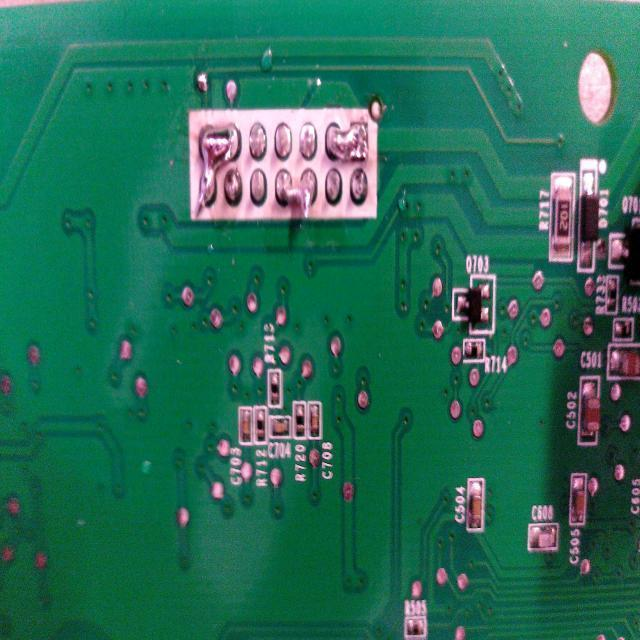Soldering shorted: (196, 121, 243, 221), (324, 118, 370, 168), (275, 167, 318, 220)
